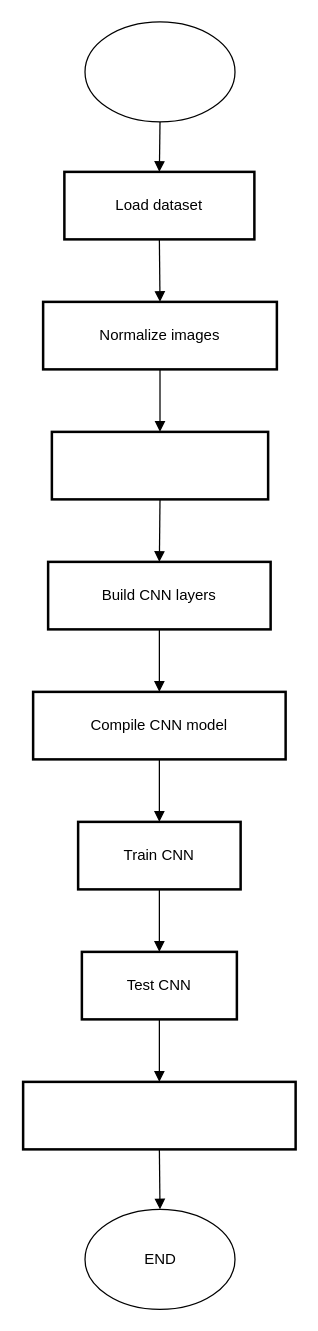
The diagram is 318 pixels wide and 1331 high, and some of its shapes have lost their labels. Here are the shapes that lost their labels. From the top down, the centre of each, then its label:
At pixel 159 71: "START".
At pixel 159 465: "Reshape images".
At pixel 158 1115: "Evaluate performance".
